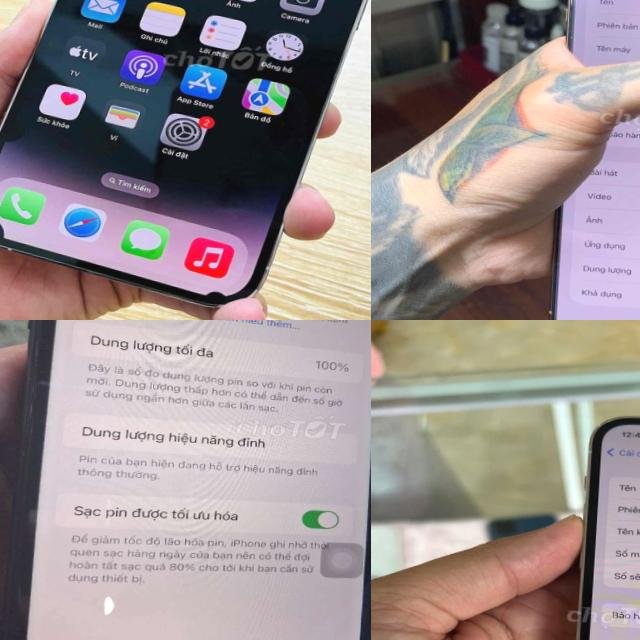gen_12_13: (563, 400, 640, 640)
gen_15: (0, 0, 371, 319)
gen_16: (551, 98, 640, 320)
gen_7_8: (0, 320, 371, 640)
